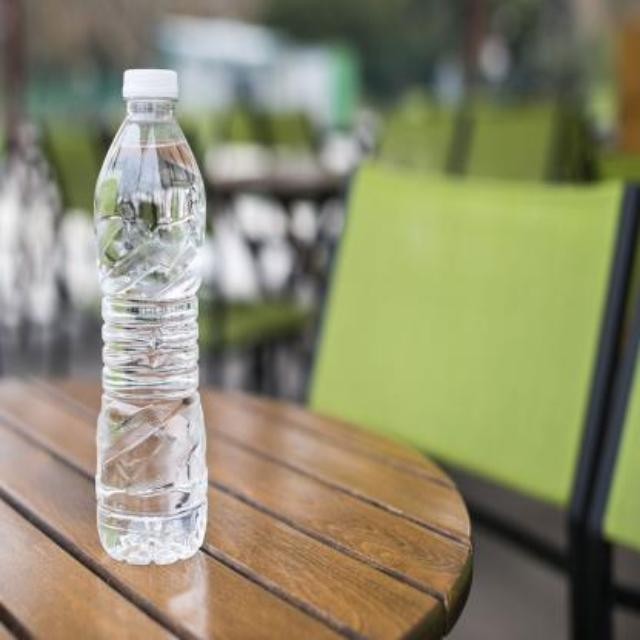plastic_bottle: (87, 62, 213, 565)
